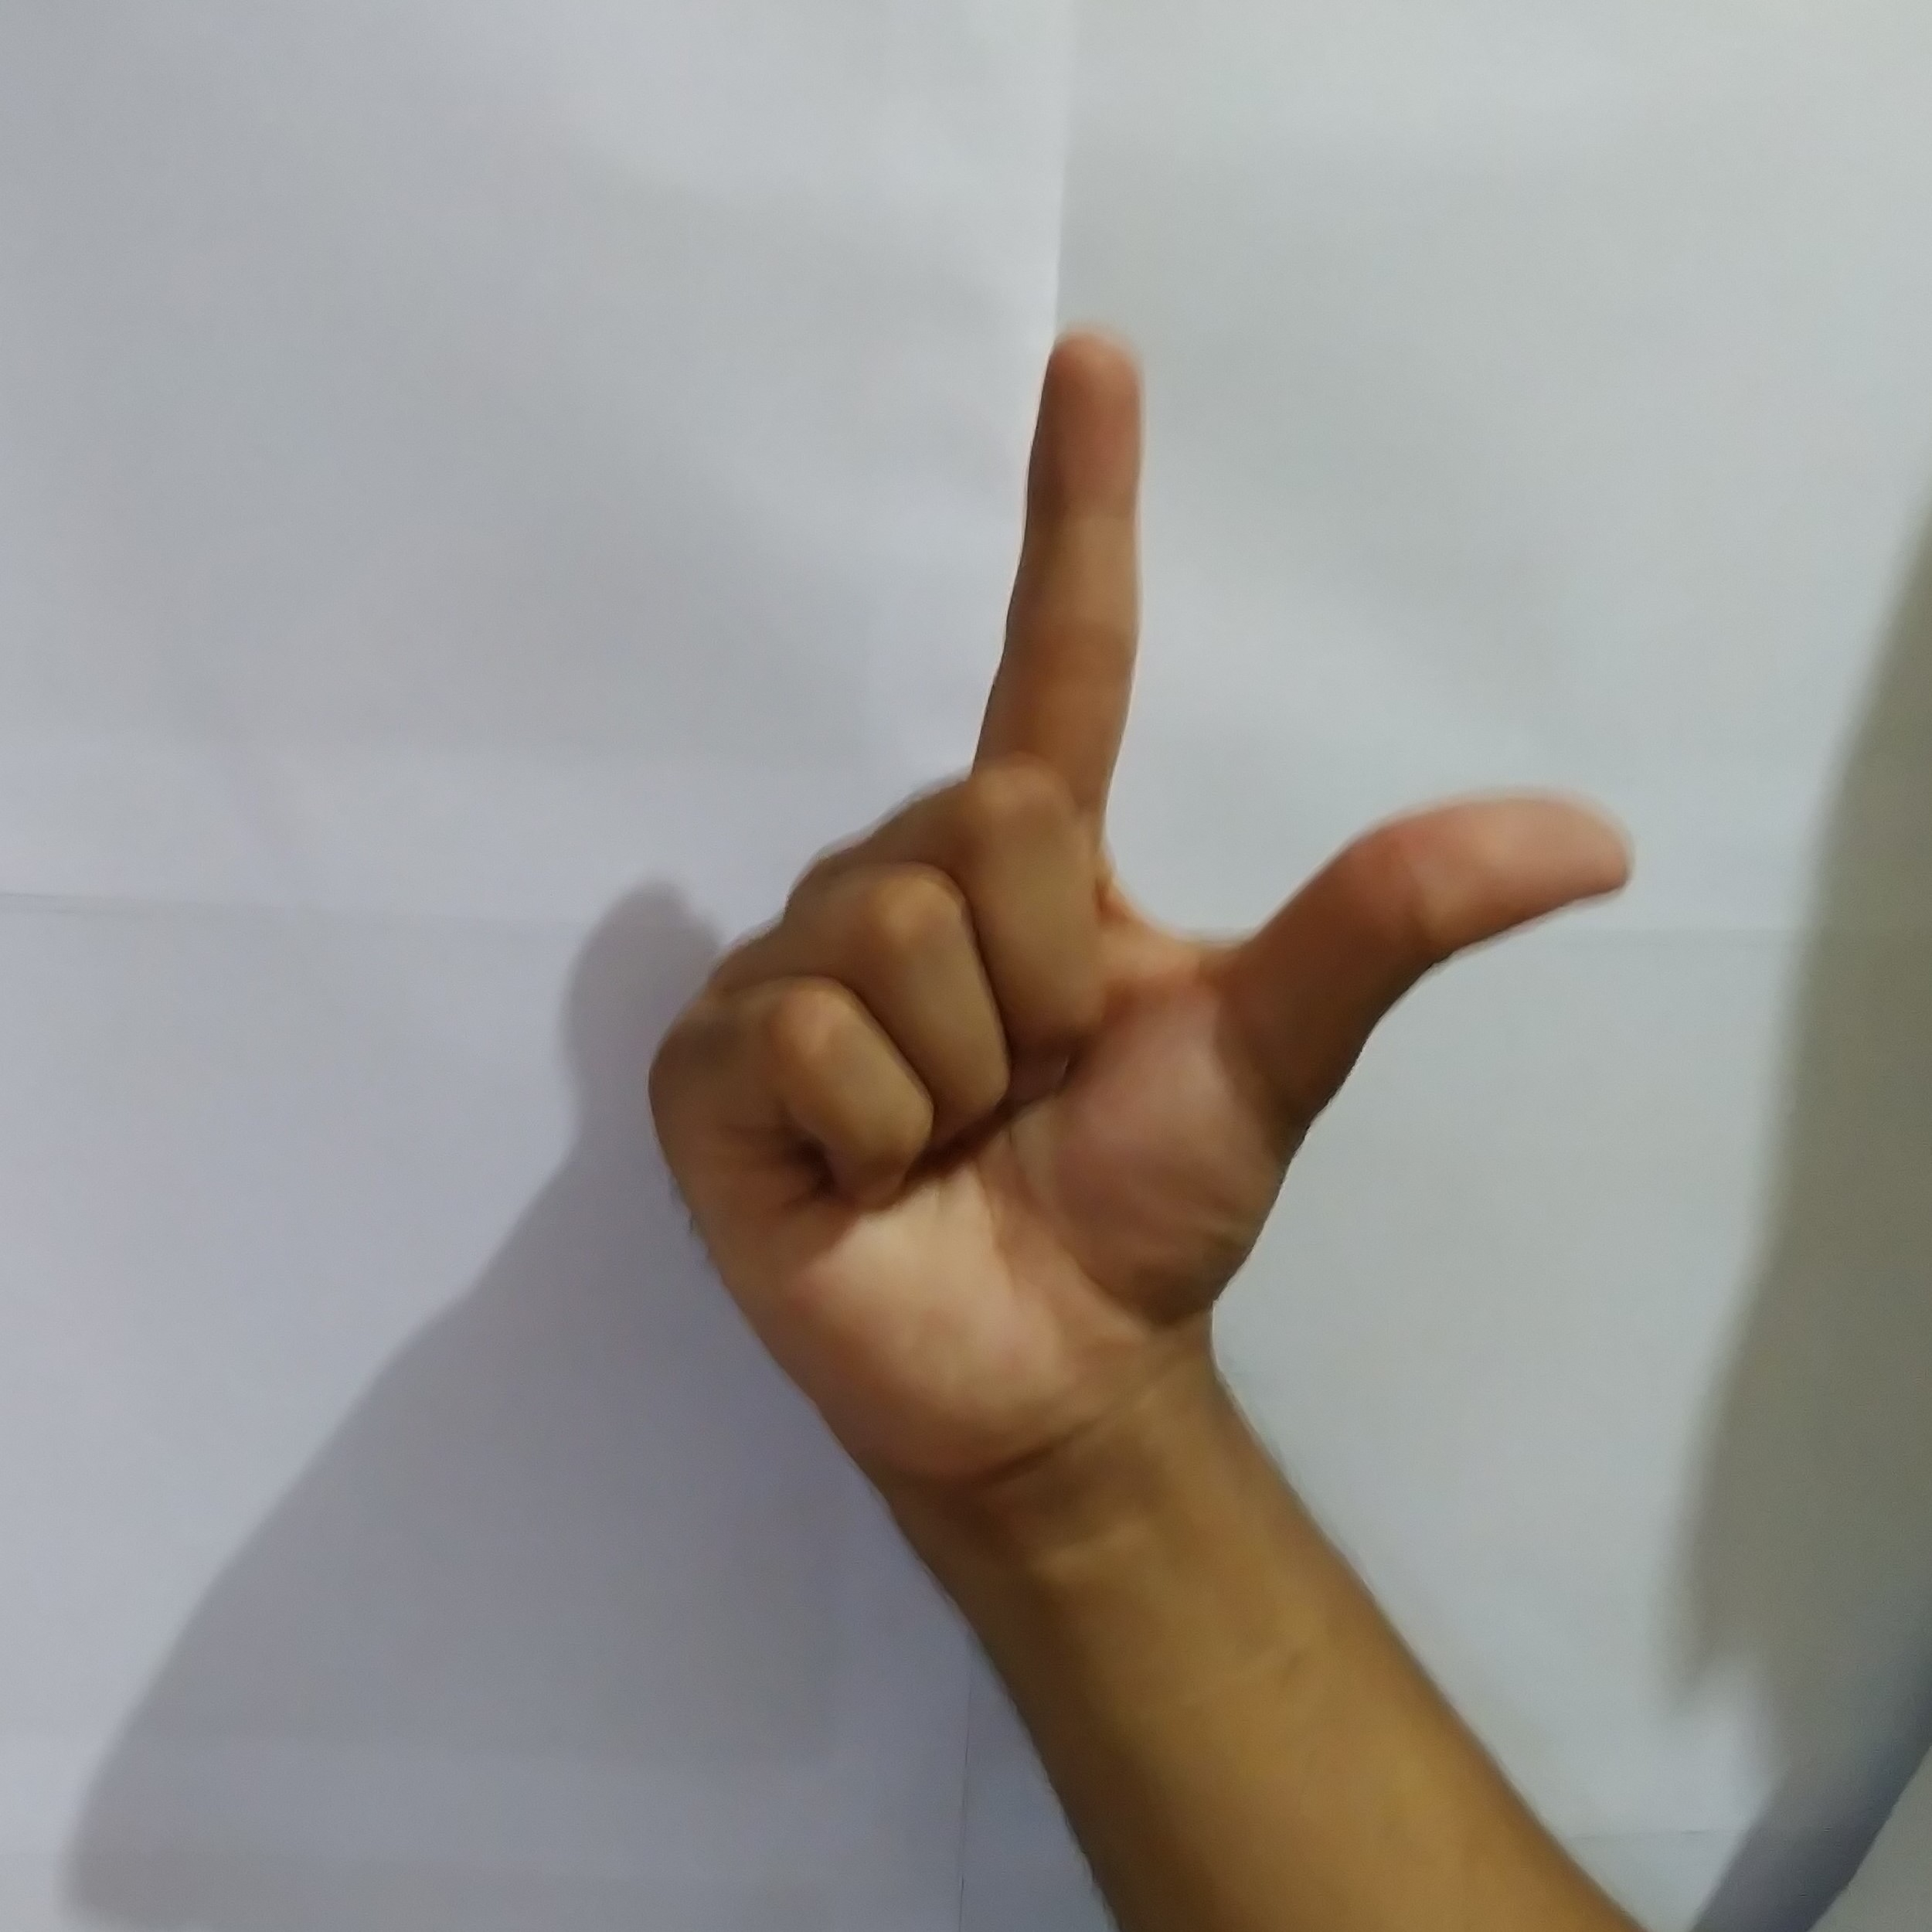L: (630, 304, 1651, 1431)
